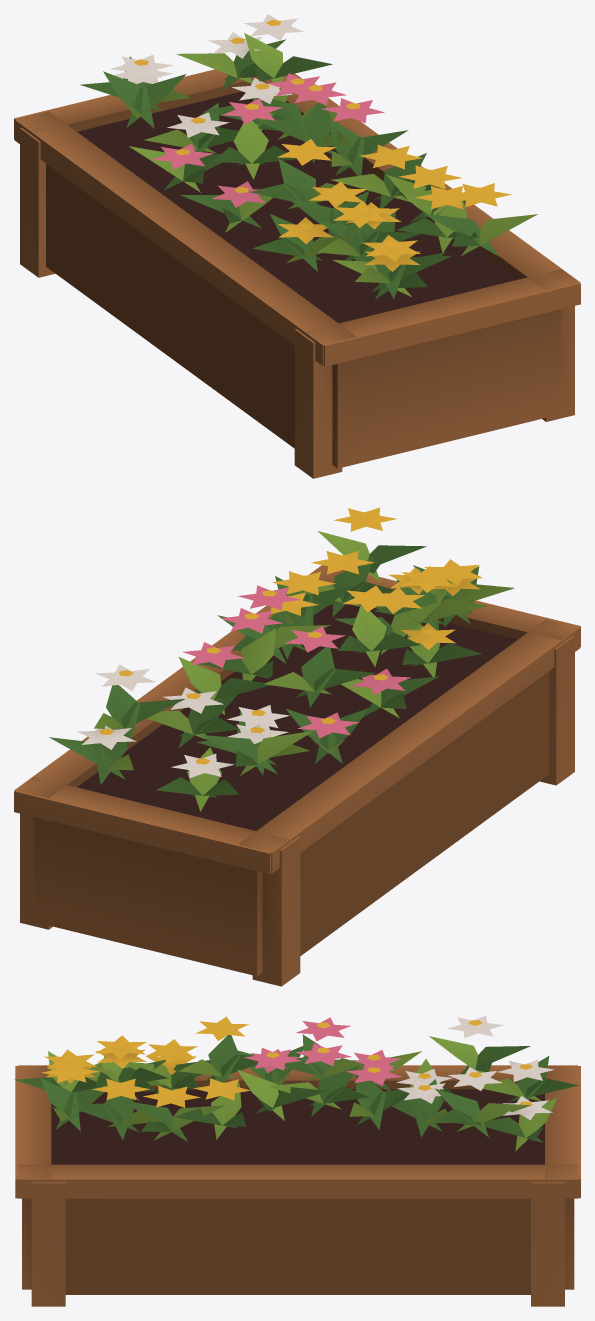
Rendered from prop.flower-bed.small.lod1.glb.
3 renders of one model, top to bottom at view 1: azimuth 30°, elevation 25°; view 2: azimuth 150°, elevation 25°; view 3: azimuth 270°, elevation 25°, orthographic. The views are drawn at different scales.
Bounding box in the file's own units: 0.726 × 0.6189 × 1.5.
